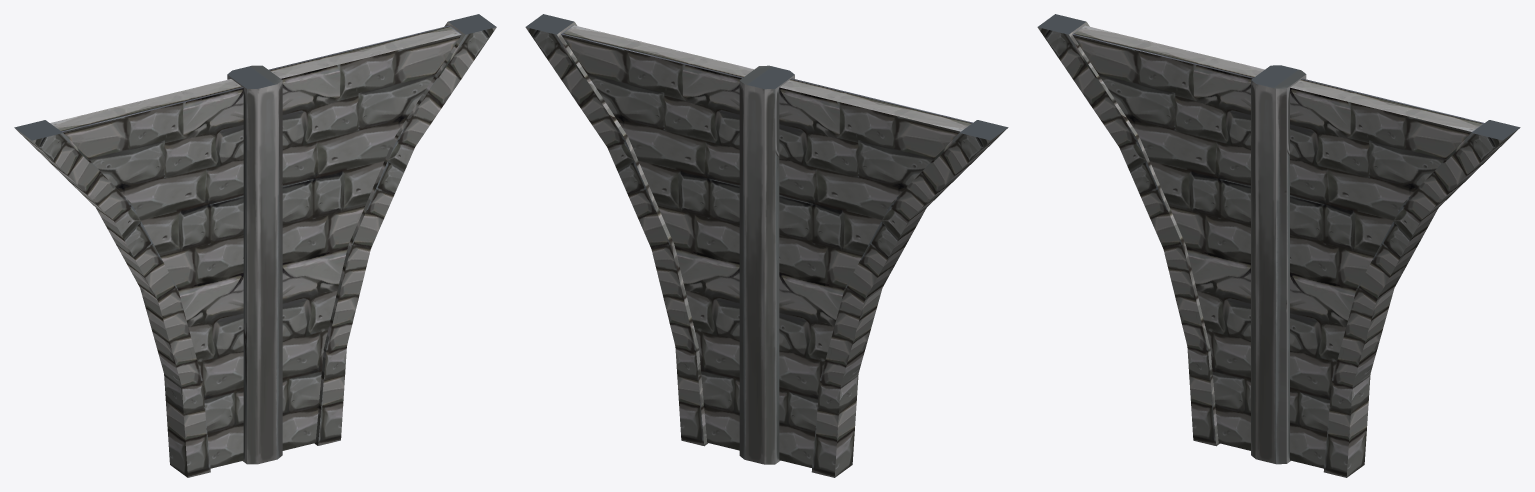
File: shiqiang01.fbx
3 views of the same model, side by side, from view 1: azimuth 30°, elevation 25°; view 2: azimuth 150°, elevation 25°; view 3: azimuth 330°, elevation 25° (orthographic).
Parts seen in each view (by area): view 1: shiqiang01; view 2: shiqiang01; view 3: shiqiang01.
Part boxes in pixels (box(x1,y1,x2,y2)): shiqiang01: box(14, 14, 496, 477); shiqiang01: box(525, 14, 1008, 477); shiqiang01: box(1037, 14, 1520, 477).
Size of the model in its own units: 102 by 78.9 by 9.65.
Materials: 1 (1 with a texture image).
